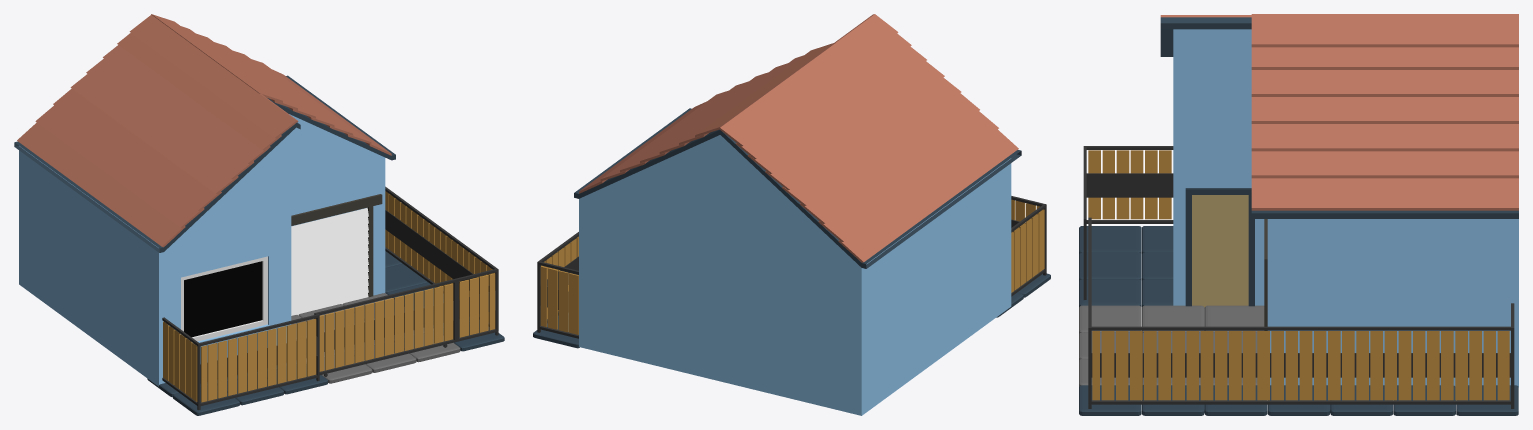
File: rumah1.fbx
The picture shows the model from 3 angles, left to right: view 1: azimuth 30°, elevation 25°; view 2: azimuth 150°, elevation 25°; view 3: azimuth 270°, elevation 25°; orthographic projection. The views are drawn at different scales.
Parts seen in each view (by area): view 1: rumah1; view 2: rumah1; view 3: rumah1.
Part boxes in pixels (<box>): rumah1: <box>14,14,504,415</box>; rumah1: <box>533,14,1050,415</box>; rumah1: <box>1079,14,1518,415</box>.
Bounding box in the file's own units: 710 × 521 × 700.
